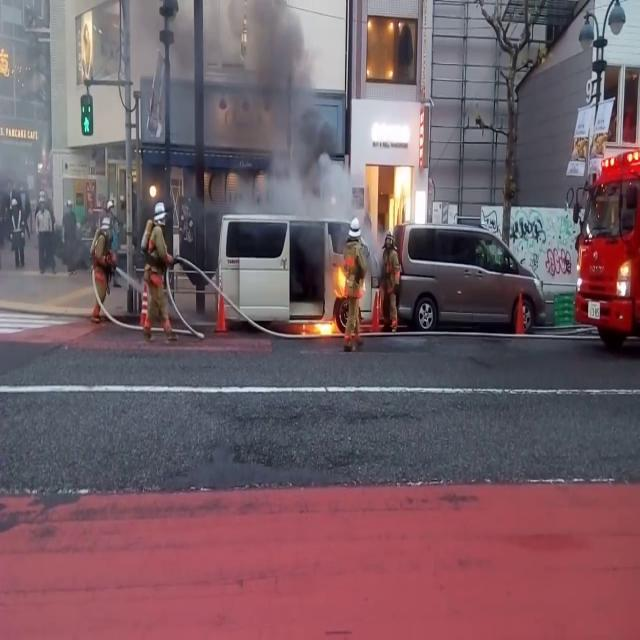Fire: (332, 252, 356, 304), (305, 310, 341, 341)
Smoke: (238, 1, 364, 231)
